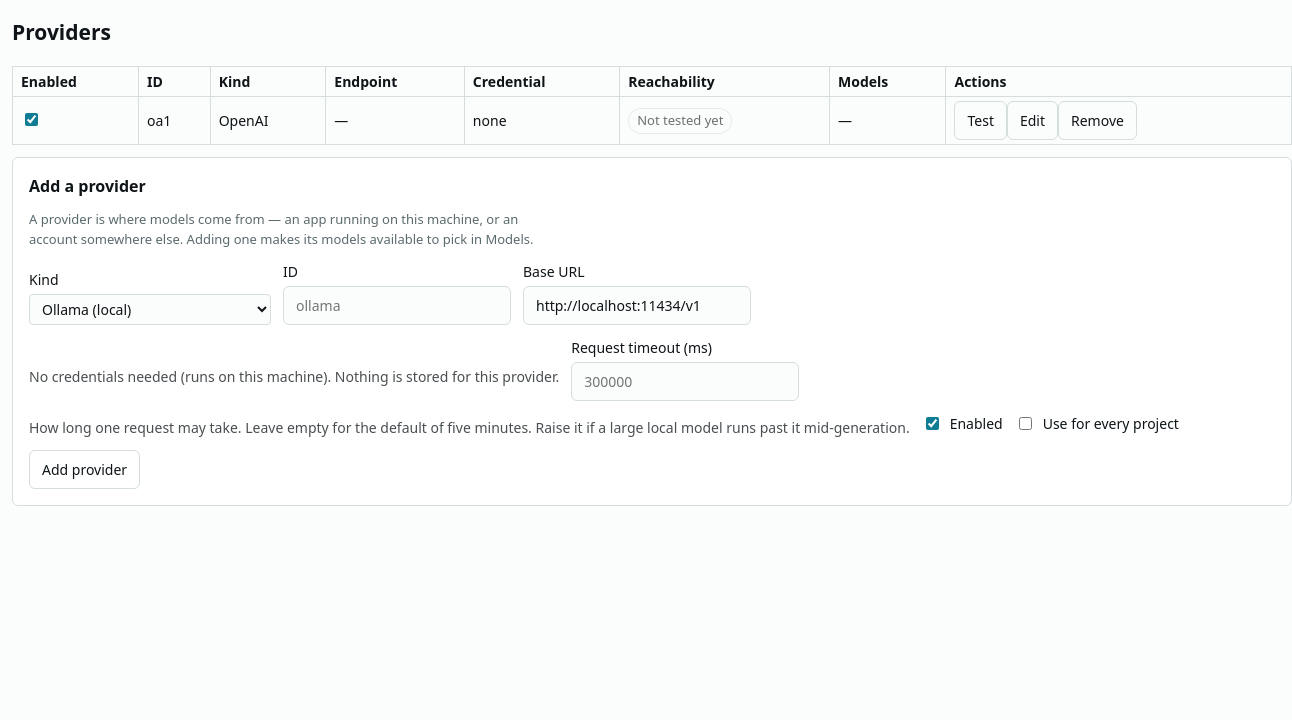
Test: ProvidersPanel reachability states (UX_SPEC §6a "every state, written") › "Cloud kind selected": the not-yet-constructible reason renders verbatim
The image size is (1292, 720).
Expected: the text "oa1" is shown, x1=138 y1=97 x2=210 y2=145
Click the button "Test": (981, 121) x1=954 y1=101 x2=1007 y2=140
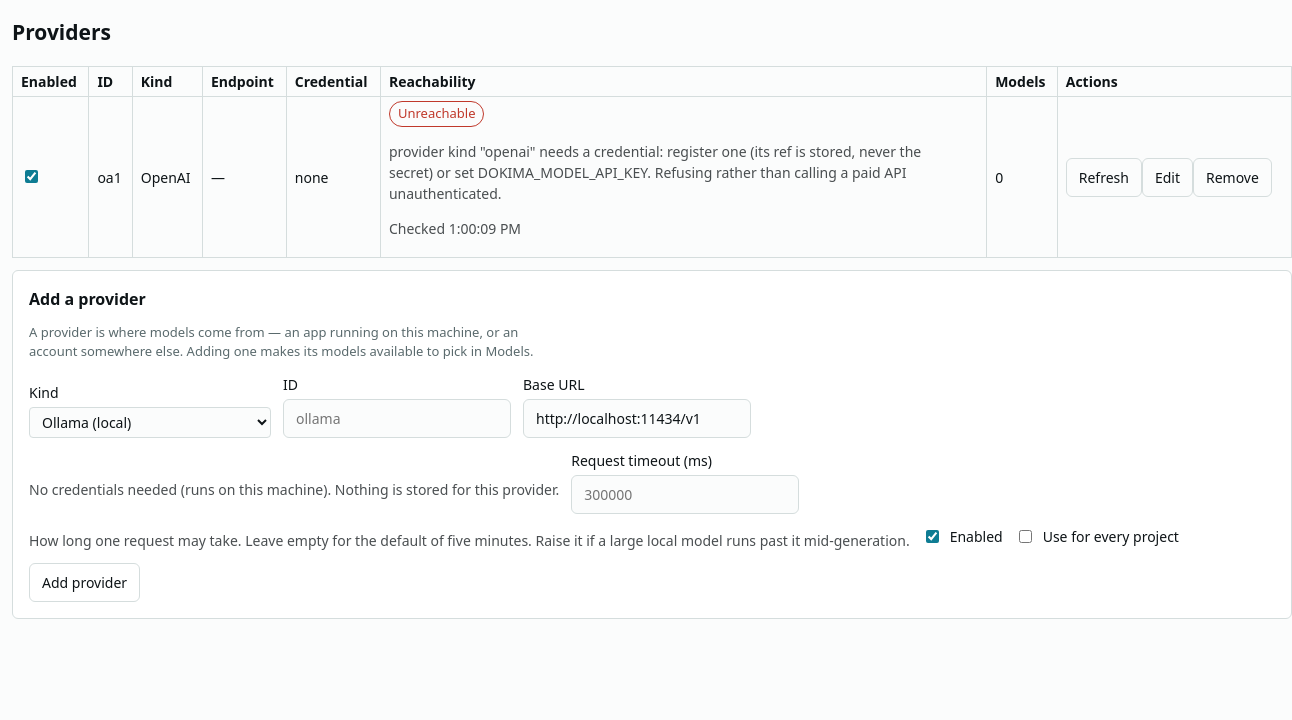
Expected: the text "needs a credential" is shown, x1=389 y1=142 x2=921 y2=203
